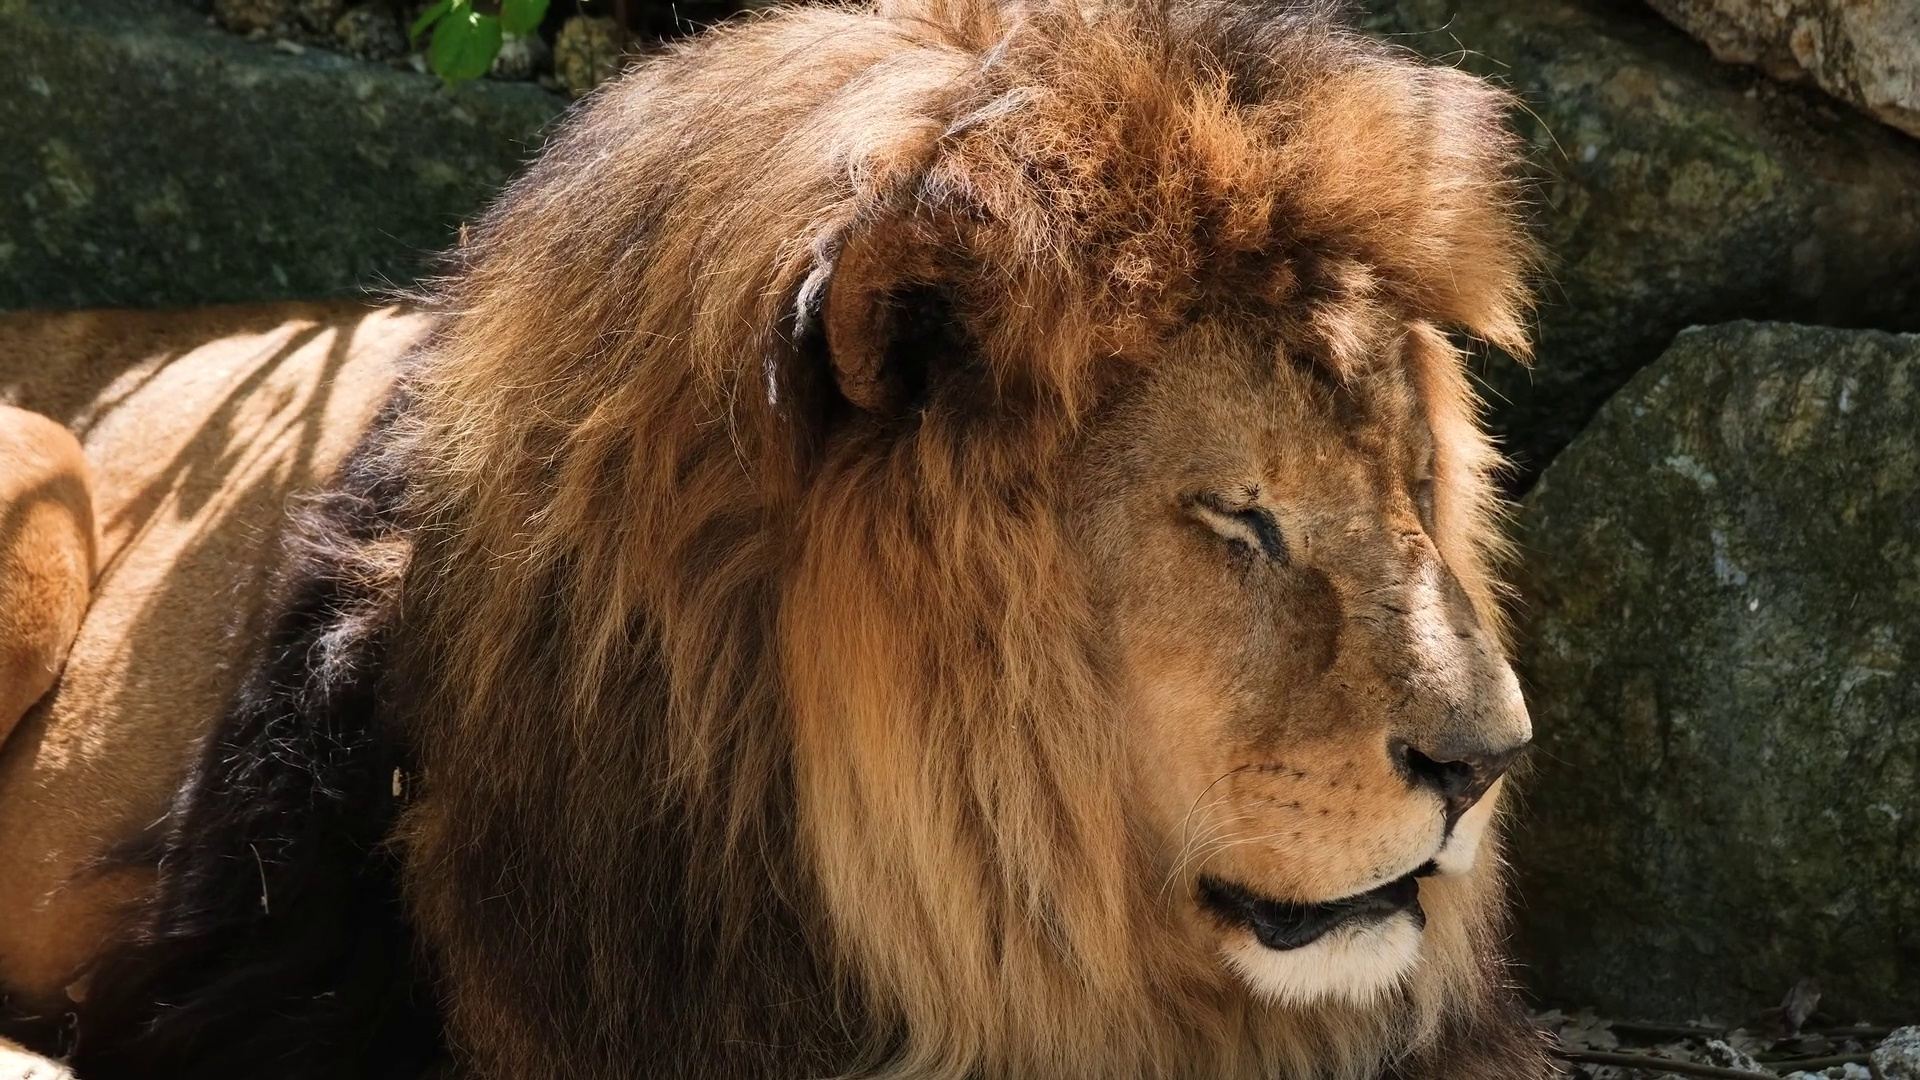Lion: (7, 7, 1564, 1080)
